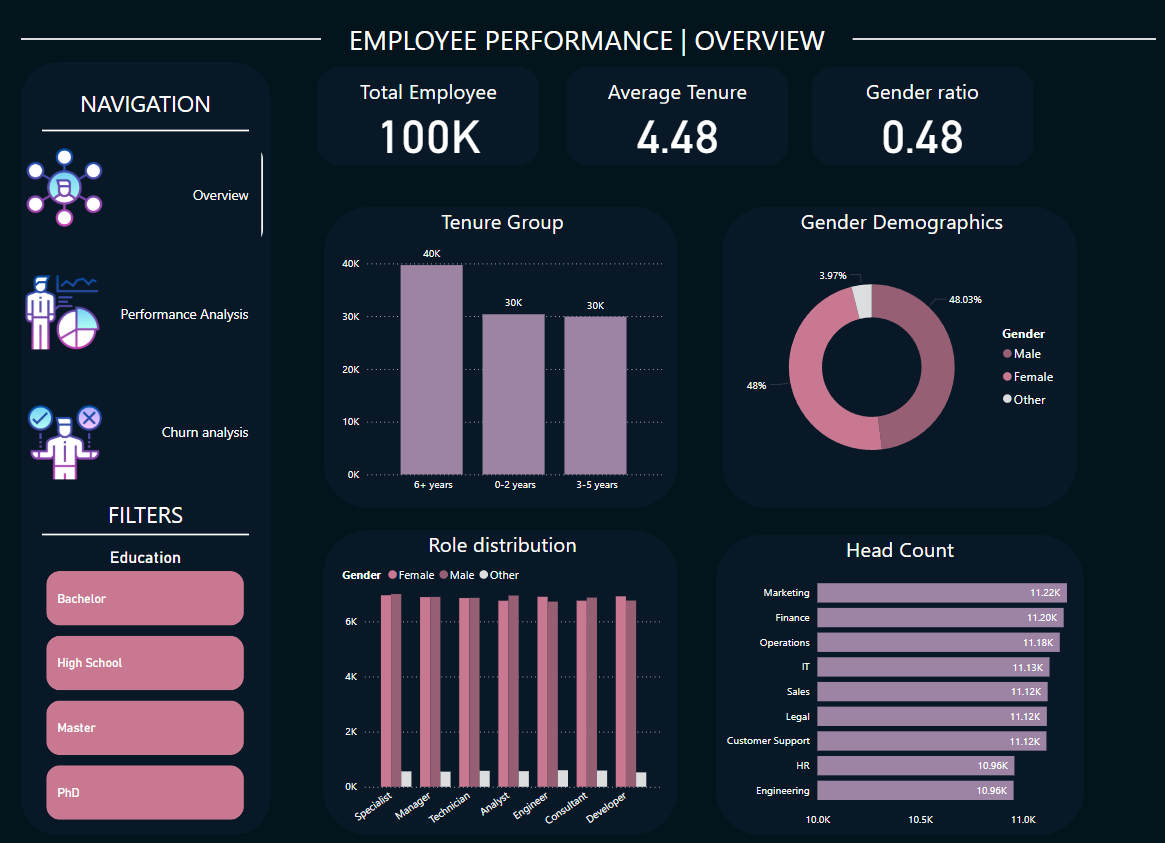

What the dashboard file says about the page in this screenshot:
{"tool":"powerbi","page":{"name":"Overview","canvas":[1400,1000],"ordinal":0},"visuals":[{"type":"shape","box":[35.2,9.4,1332.2,89.2],"z":0},{"type":"textbox","box":[387.3,9.4,624.4,71.6],"z":1000},{"type":"shape","box":[35.2,81,293.4,907.3],"z":2000},{"type":"shape","box":[389.7,630.3,416.7,358],"z":3000},{"type":"shape","box":[858,251.2,416.7,353.3],"z":4000},{"type":"shape","box":[850.9,636.2,431.9,352.1],"z":5000},{"type":"shape","box":[390.8,251.2,415.5,353.3],"z":6000},{"type":"donutChart","title":"Gender Demographics","fields":{"Category":["Extended_Employee_Performance_and_Productivity_Data.Gender"],"Y":["CountNonNull(Extended_Employee_Performance_and_Productivity_Data.Employee_ID)"]},"box":[875.6,251.2,387.3,343.9],"z":7000},{"type":"clusteredBarChart","title":"Head Count","fields":{"Category":["Extended_Employee_Performance_and_Productivity_Data.Department"],"Y":["CountNonNull(Extended_Employee_Performance_and_Productivity_Data.Employee_ID)"]},"box":[850.9,636.2,431.9,352.1],"z":8000},{"type":"clusteredColumnChart","title":"Tenure Group","fields":{"Category":["Extended_Employee_Performance_and_Productivity_Data.Tenure Group"],"Y":["CountNonNull(Extended_Employee_Performance_and_Productivity_Data.Employee_ID)"]},"box":[407.3,251.2,386.2,343.9],"z":9000},{"type":"lineClusteredColumnComboChart","title":"Role distribution","fields":{"Category":["Extended_Employee_Performance_and_Productivity_Data.Job_Title"],"Y":["CountNonNull(Extended_Employee_Performance_and_Productivity_Data.Employee_ID)"],"Series":["Extended_Employee_Performance_and_Productivity_Data.Gender"]},"box":[407.3,630.3,386.2,369.7],"z":10000},{"type":"cardVisual","title":"Total Employee","fields":{"Data":["CountNonNull(Extended_Employee_Performance_and_Productivity_Data.Employee_ID)"]},"box":[377.9,81,271.1,127.9],"z":11000},{"type":"cardVisual","title":"Total Employee","fields":{"Data":["Avg(Extended_Employee_Performance_and_Productivity_Data.Years_At_Company)"]},"box":[670.2,81,271.1,127.9],"z":12000},{"type":"cardVisual","title":"Total Employee","fields":{"Data":["Extended_Employee_Performance_and_Productivity_Data.Gender ratio"]},"box":[957.7,81,271.1,127.9],"z":13000},{"type":"shape","box":[59.9,145.5,243,31.7],"z":14000},{"type":"shape","box":[59.9,619.7,243,31.7],"z":15000},{"type":"textbox","box":[76.3,105.6,210.1,48.1],"z":16000},{"type":"textbox","box":[76.3,588,210.1,48.1],"z":17000},{"type":"pageNavigator","box":[35.2,177.2,284,399.1],"z":18000},{"type":"image","box":[35.2,177.2,102.1,102.1],"z":19000},{"type":"image","box":[35.2,478.9,102.1,97.4],"z":20000},{"type":"image","box":[35.2,326.3,97.4,97.4],"z":21000},{"type":"advancedSlicerVisual","title":"Education","fields":{"Values":["Extended_Employee_Performance_and_Productivity_Data.Education_Level"]},"box":[59.9,651.4,243,326.3],"z":22000}]}

Visuals, with their boxes in screenshot pixels (x1, y1, x2, y2), scaled from the page's 1400x1000 canvas onto the 1165x843 screenshot:
shape: x1=29 y1=8 x2=1138 y2=83
textbox: x1=322 y1=8 x2=842 y2=68
shape: x1=29 y1=68 x2=273 y2=833
shape: x1=324 y1=531 x2=671 y2=833
shape: x1=714 y1=212 x2=1061 y2=510
shape: x1=708 y1=536 x2=1067 y2=833
shape: x1=325 y1=212 x2=671 y2=510
"Gender Demographics" donutChart: x1=729 y1=212 x2=1051 y2=502
"Head Count" clusteredBarChart: x1=708 y1=536 x2=1067 y2=833
"Tenure Group" clusteredColumnChart: x1=339 y1=212 x2=660 y2=502
"Role distribution" lineClusteredColumnComboChart: x1=339 y1=531 x2=660 y2=842
"Total Employee" cardVisual: x1=314 y1=68 x2=540 y2=176
"Total Employee" cardVisual: x1=558 y1=68 x2=783 y2=176
"Total Employee" cardVisual: x1=797 y1=68 x2=1023 y2=176
shape: x1=50 y1=123 x2=252 y2=149
shape: x1=50 y1=522 x2=252 y2=549
textbox: x1=63 y1=89 x2=238 y2=130
textbox: x1=63 y1=496 x2=238 y2=536
pageNavigator: x1=29 y1=149 x2=266 y2=486
image: x1=29 y1=149 x2=114 y2=235
image: x1=29 y1=404 x2=114 y2=486
image: x1=29 y1=275 x2=110 y2=357
"Education" advancedSlicerVisual: x1=50 y1=549 x2=252 y2=824
